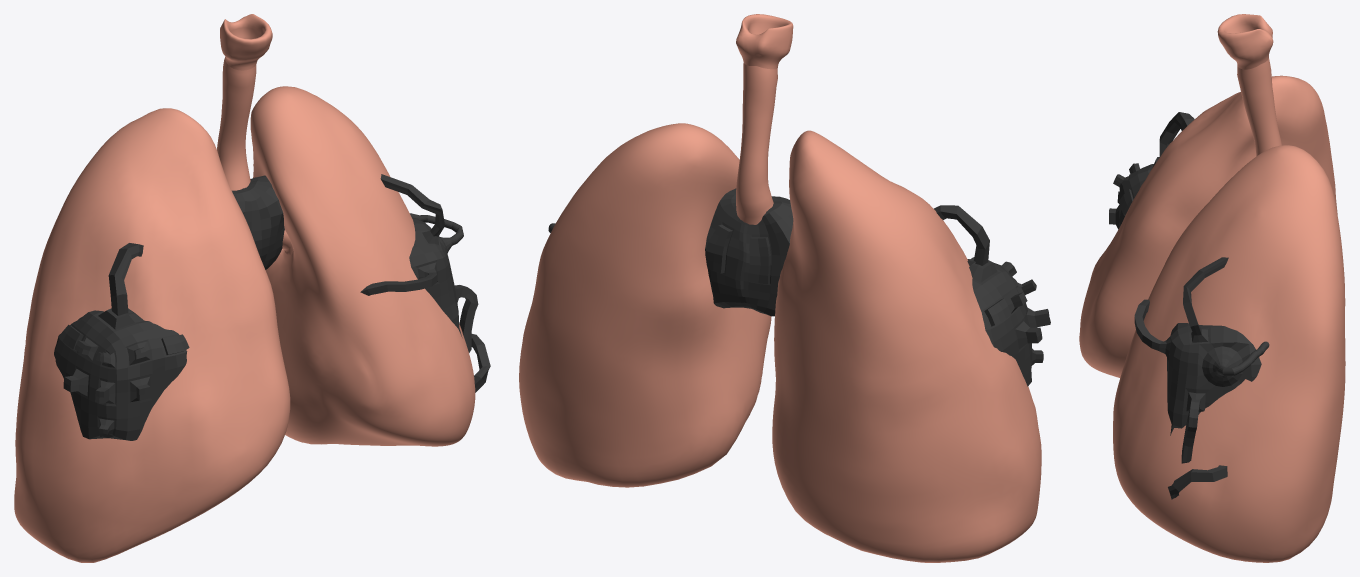
Rendered from pulmones cyborg1.fbx.
The picture shows the model from 3 angles, left to right: view 1: azimuth 30°, elevation 25°; view 2: azimuth 150°, elevation 25°; view 3: azimuth 270°, elevation 25°; orthographic projection. The views are drawn at different scales.
Visible parts, largest first — view 1: Mesh0, Cube; view 2: Mesh0, Cube; view 3: Mesh0, Cube.
Part boxes in pixels (x1,y1,x2,y2): Mesh0: (14,14,475,562); Cube: (54,174,490,440); Mesh0: (519,14,1041,562); Cube: (548,188,1050,386); Mesh0: (1079,14,1345,562); Cube: (1109,112,1269,499).
Bounding box in the file's own units: 192 × 186 × 99.56.
